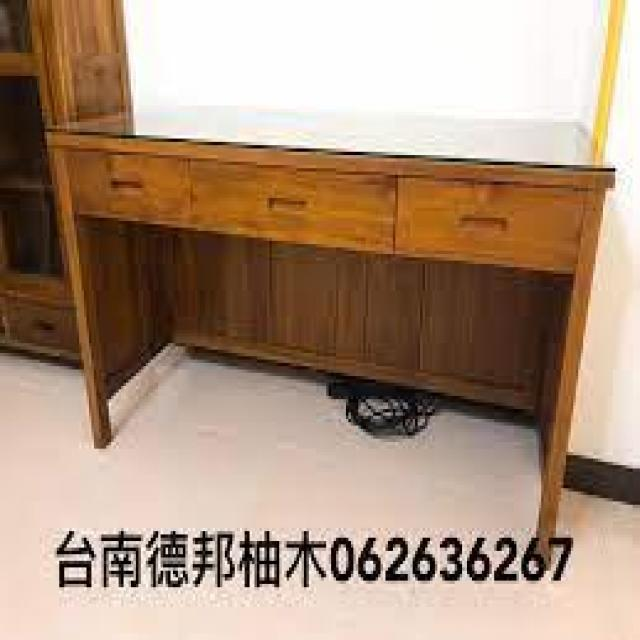table: (35, 71, 625, 496)
